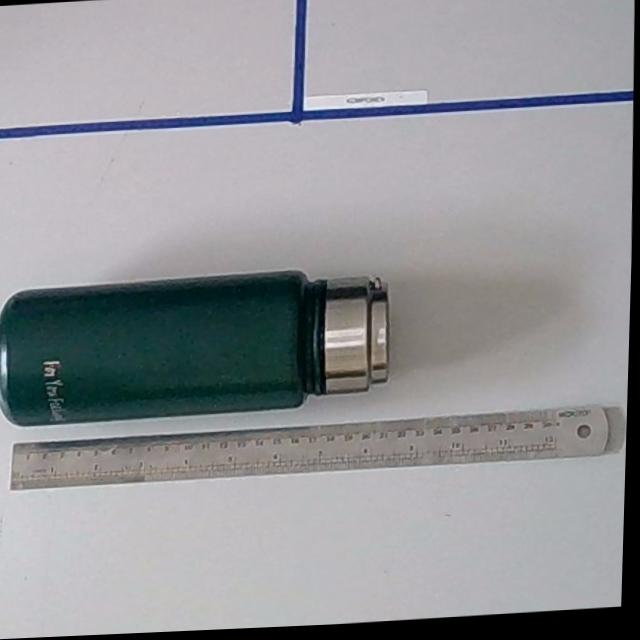bottle: (0, 266, 397, 432)
ruler: (12, 410, 613, 495)
